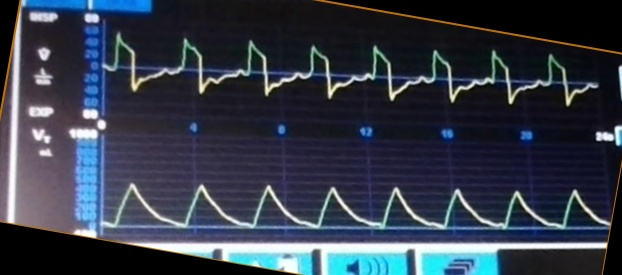Accumulation Flow: (108, 26, 598, 120)
Volume: (106, 155, 605, 239)
